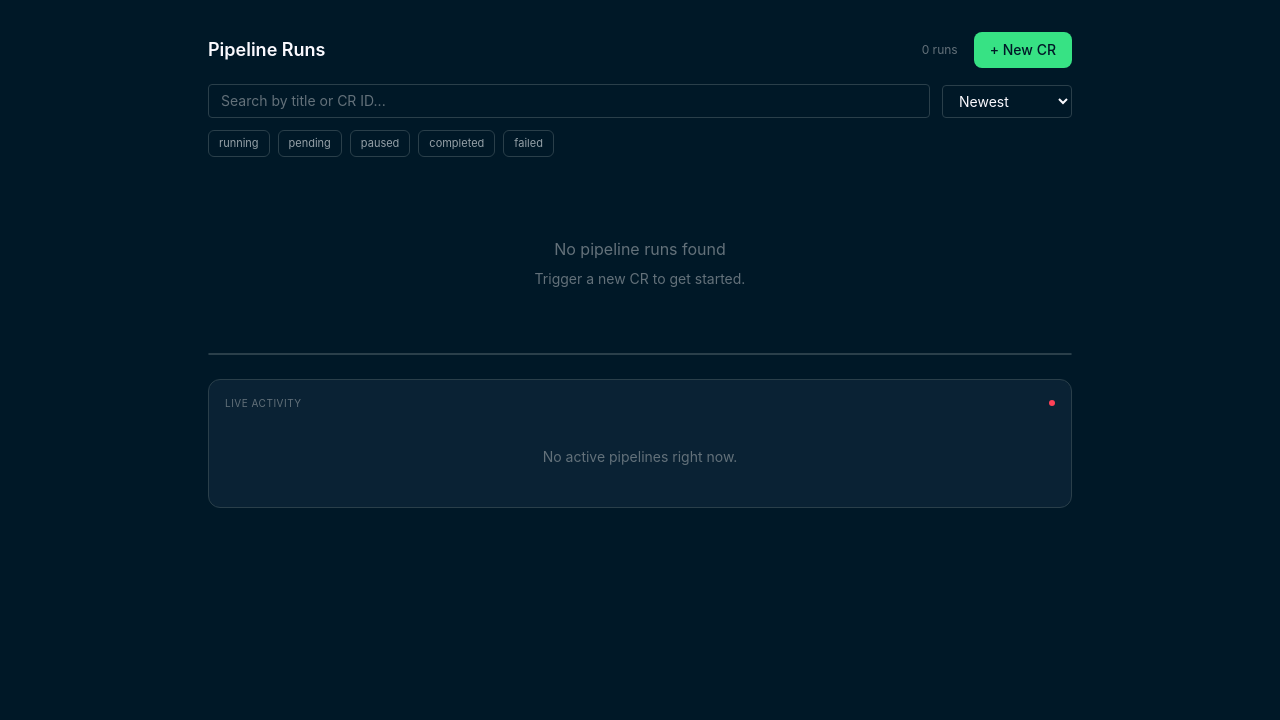
Test: CRListPage › closes the dialog when Cancel is clicked — list page remains visible
# Open dialog
Click the button "+ New CR" at (1023, 50), box [974,32,1072,68]
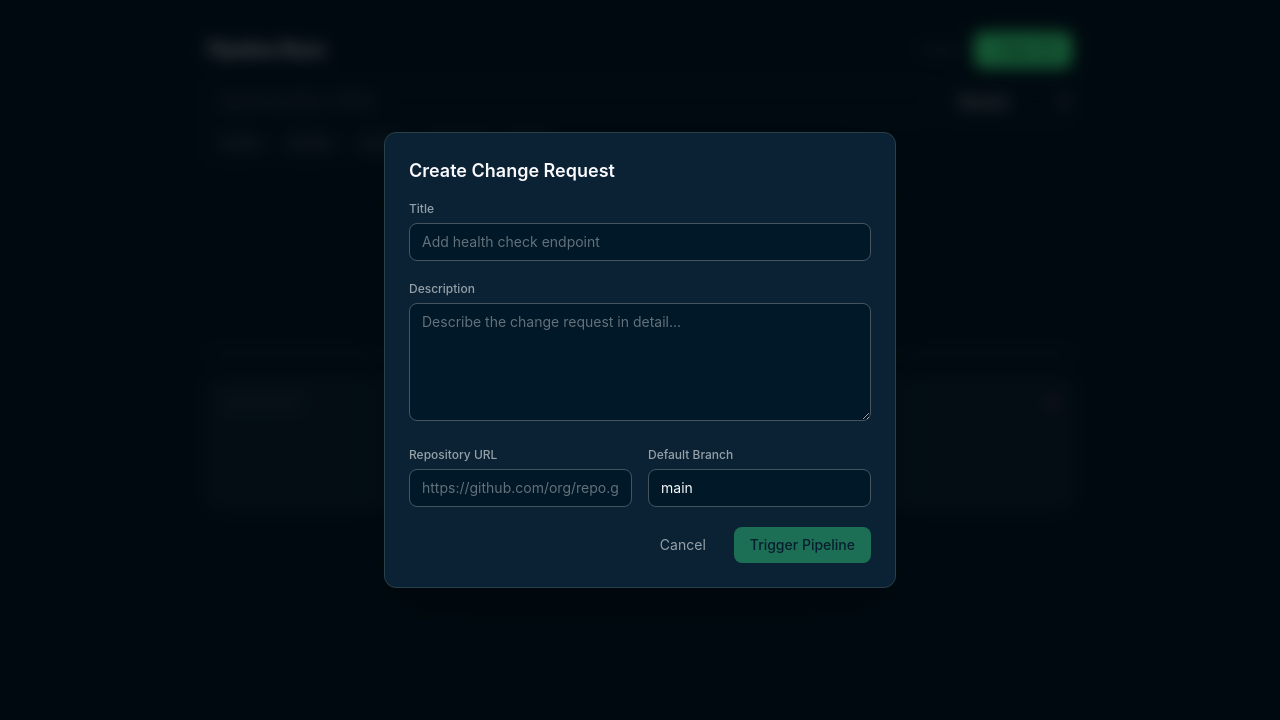
Result: the dialog is shown at [384,132,896,588]
# Cancel the dialog
Click the button "Cancel" at (683, 545), box [644,527,722,563]
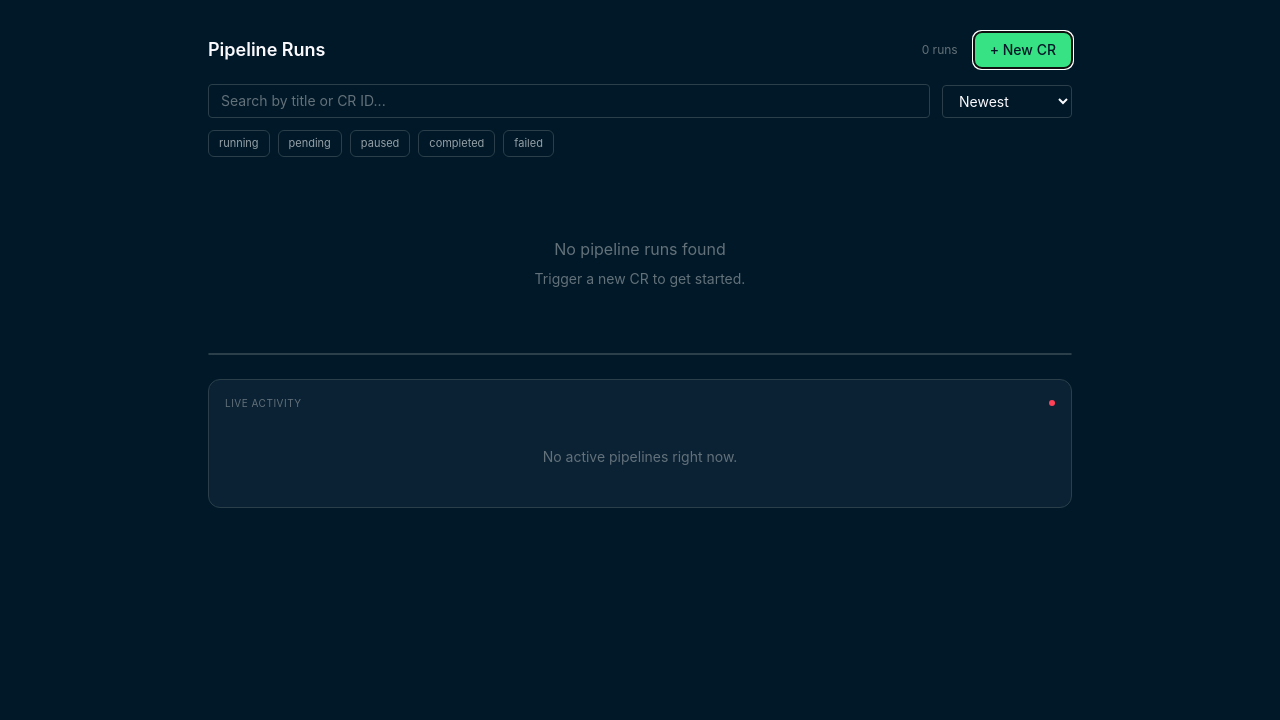
Expected: the heading "Pipeline Runs" is shown, [208,36,326,64]
Result: the dialog is gone
